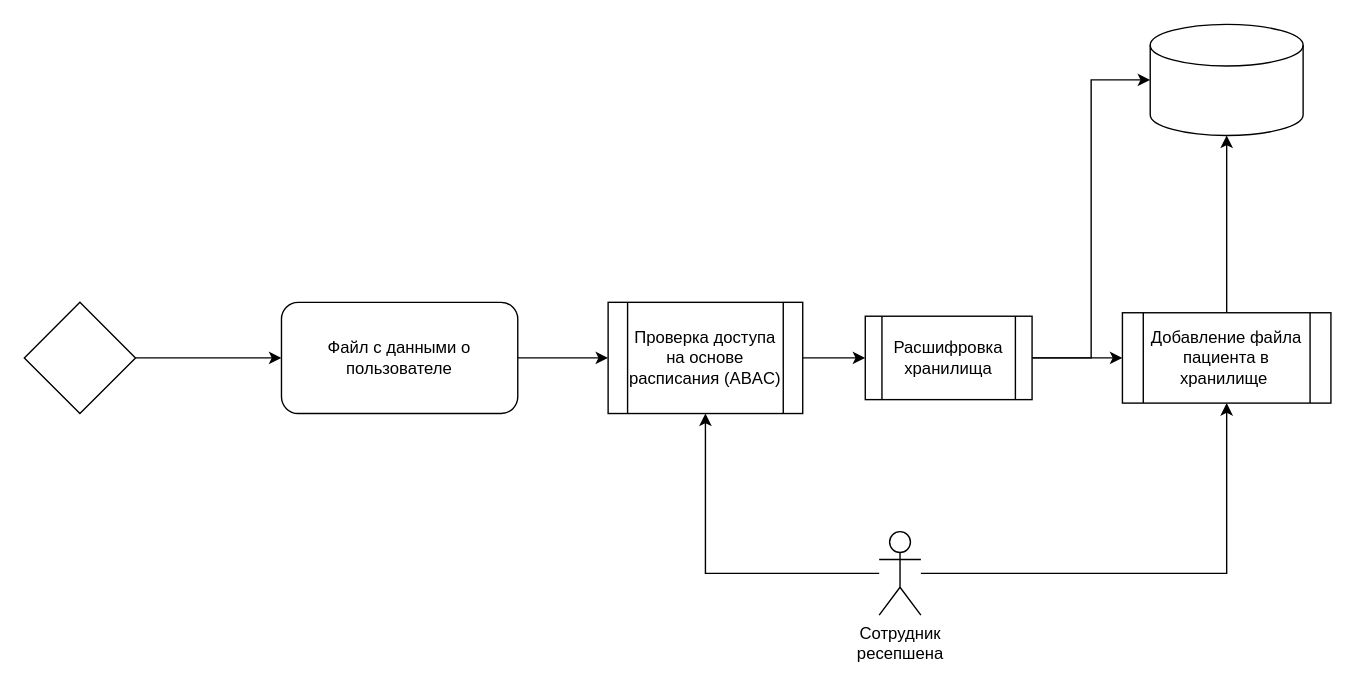
Some shapes in this 1355 by 689 pixel diagram are drawn without their labels. The shapes that lost their labels are listed below. From the top down, each one's box as (x1, y1, x2, y2) in pixels, then its label:
(1149, 23, 1303, 136): Хранилище с файлами
(23, 301, 136, 414): Начало
